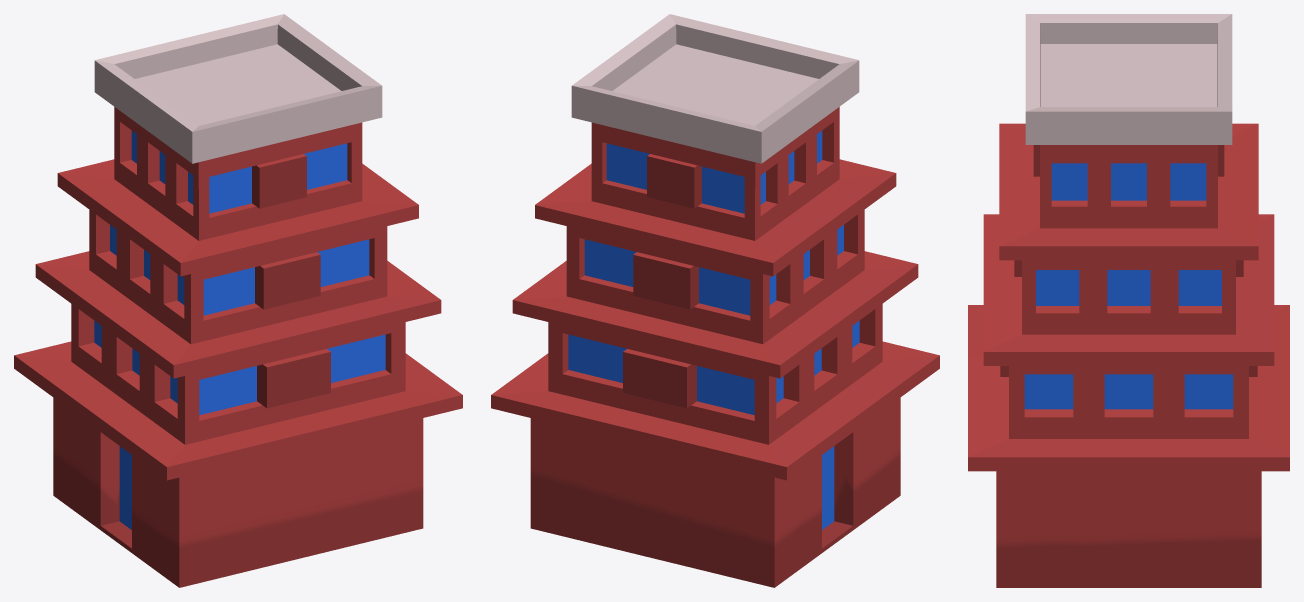
Rendered from house18.fbx.
The picture shows the model from 3 angles, left to right: view 1: azimuth 30°, elevation 25°; view 2: azimuth 150°, elevation 25°; view 3: azimuth 270°, elevation 25°; orthographic projection. The views are drawn at different scales.
Visible parts, largest first — view 1: building.002_LOD0; view 2: building.002_LOD0; view 3: building.002_LOD0.
Part boxes in pixels (x1,y1,x2,y2): building.002_LOD0: (14, 14, 462, 587); building.002_LOD0: (491, 14, 939, 587); building.002_LOD0: (968, 14, 1289, 587).
Size of what is drawn, in the model's own units: 1117 by 1584 by 999.
